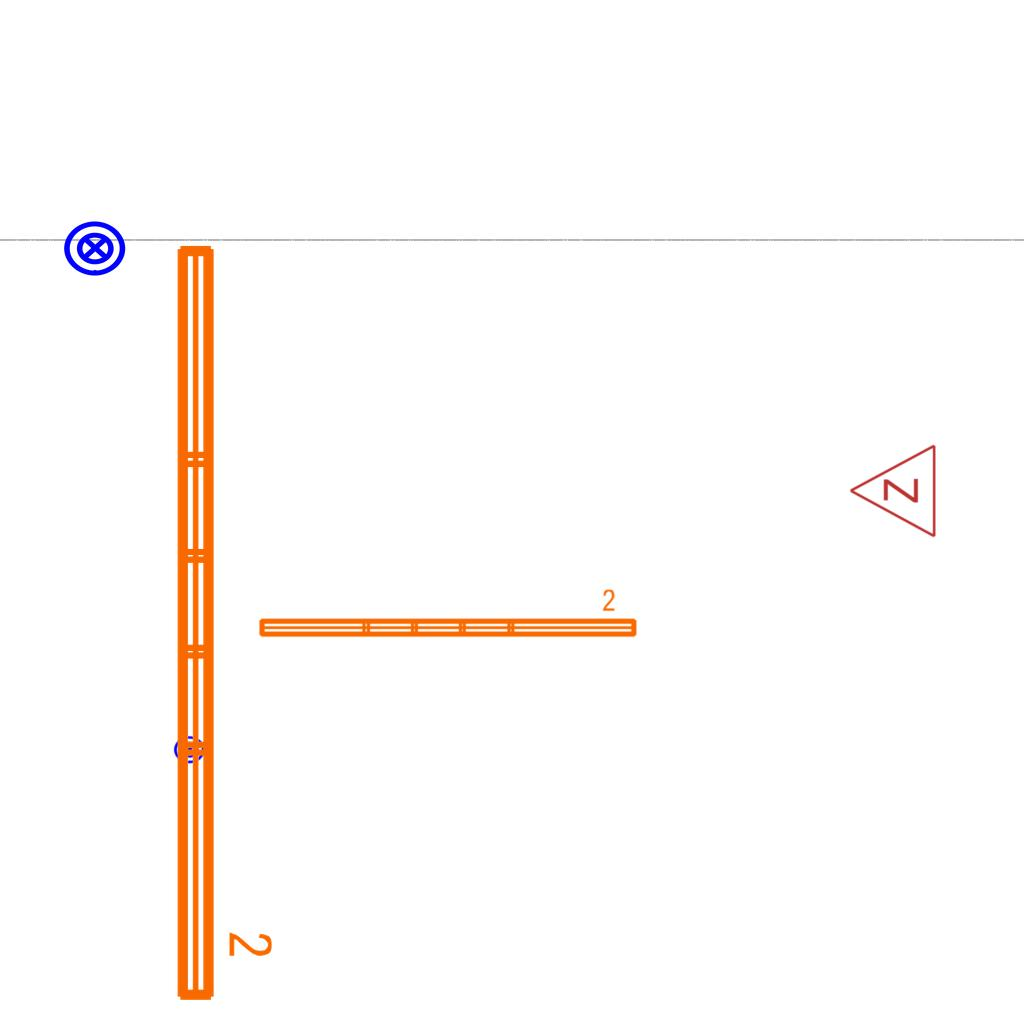Ambulanz_Pendelleuchte_LED: (165, 235, 277, 1009), (254, 587, 641, 643)
Taster_beleuchtet: (62, 215, 128, 281), (173, 733, 206, 766)
Zimmersignalleuchte: (843, 443, 943, 541)
